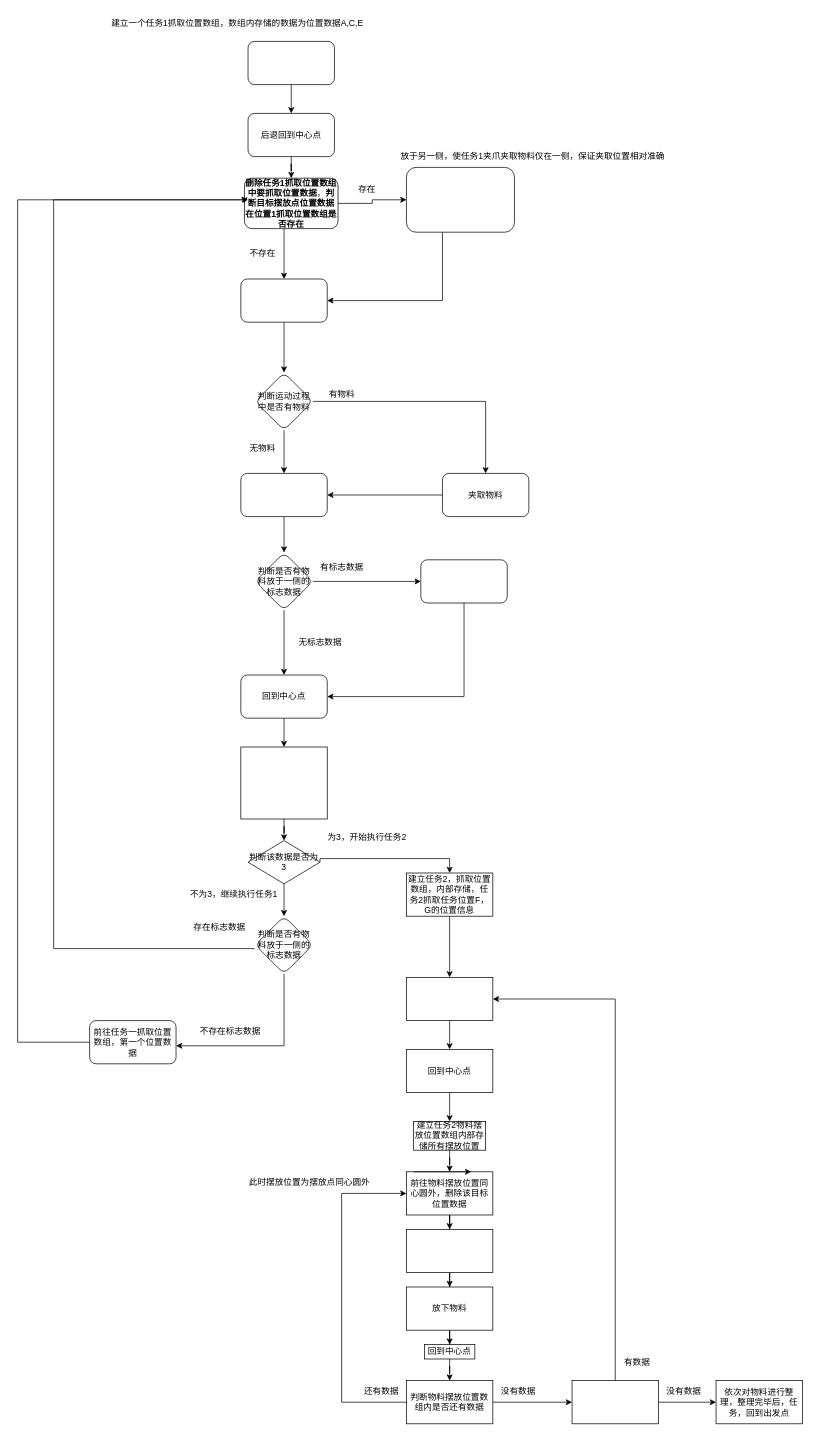
The diagram is 815 pixels wide and 1436 high, and some of its shapes have lost their labels. The shapes that lost their labels are listed below. From the top down, each one's centre as x and y in pixels, then its label:
At point (290, 63): "向正前方移动，抓取C点处物料".
At point (460, 199): "将物料放于夹爪另一侧，并添加一个标志数据 ，该标志数据，用于摆放物料时验证是否要进行位置调整， 保存目标位置数据".
At point (283, 300): "前往物料摆放位置".
At point (283, 495): "到达摆放位置，定位摆放点，将物料放于摆放点".
At point (463, 581): "对物料摆放，进行调整".
At point (283, 782): "建立回到中心点次数标志数据，没回到一次中心点，数据加1".
At point (449, 999): "前往任务2抓取位置数组的的第一个位置抓取全部物料，并删除该位置数据".
At point (449, 1251): "到达目标位置，位置大概在物料摆放位置同心圆外侧。".
At point (614, 1402): "检测任务2抓取任务数组内是否有数据".
